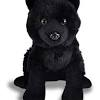Lobo: (19, 2, 88, 98)
